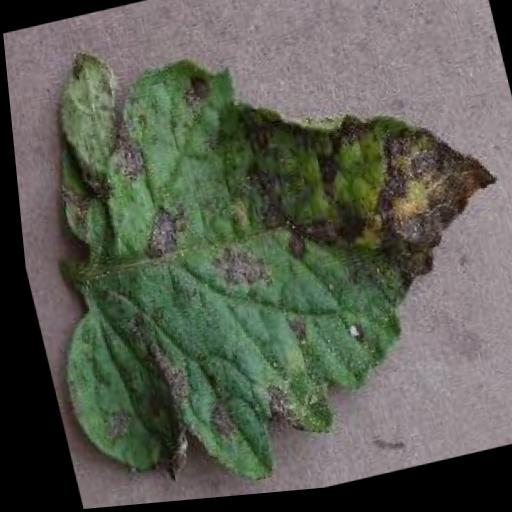Early Blight: (1, 0, 512, 512)
